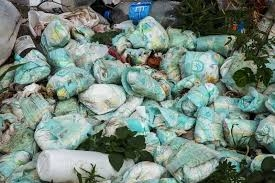paper: (33, 146, 137, 182), (152, 134, 226, 183), (33, 110, 100, 153), (45, 62, 98, 103), (100, 1, 180, 28), (117, 65, 171, 103), (193, 104, 231, 152), (178, 49, 226, 85), (126, 16, 172, 53), (79, 82, 129, 116), (176, 80, 219, 118), (10, 50, 52, 88), (37, 15, 79, 51), (222, 116, 261, 152), (121, 159, 168, 183), (252, 113, 275, 152), (239, 87, 267, 113)
